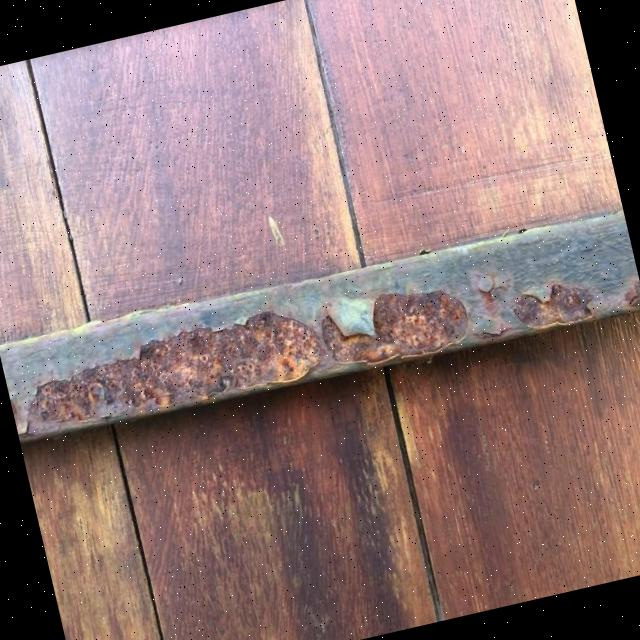Corrosion: (2, 219, 640, 451), (19, 298, 325, 440), (314, 272, 474, 377)
